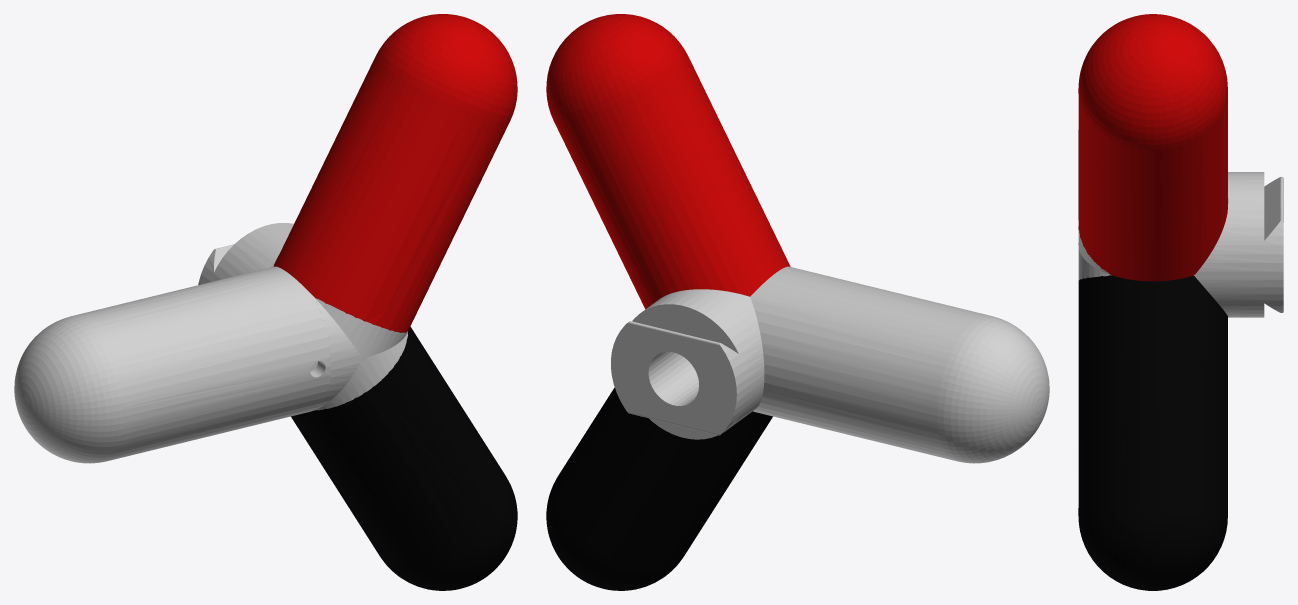
The model's file is triValve_up.obj.
3 renders of one model, left to right at view 1: azimuth 30°, elevation 25°; view 2: azimuth 150°, elevation 25°; view 3: azimuth 270°, elevation 25°, orthographic.
Visible parts, largest first — view 1: triValve_up_(copy), red, black; view 2: triValve_up_(copy), red, black; view 3: black, red, triValve_up_(copy).
Part boxes in pixels (<box>): triValve_up_(copy): <box>14,223,407,463</box>; red: <box>273,14,517,332</box>; black: <box>291,326,517,590</box>; triValve_up_(copy): <box>611,266,1049,463</box>; red: <box>546,14,790,309</box>; black: <box>546,387,772,590</box>; black: <box>1078,275,1227,590</box>; red: <box>1078,14,1227,281</box>; triValve_up_(copy): <box>1078,130,1283,317</box>.
Bounding box in the file's own units: 146 × 162 × 53.5.
